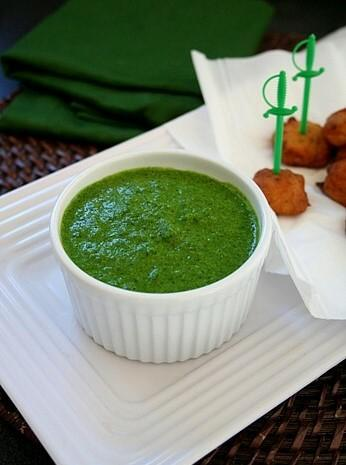GreenChutney: (60, 168, 255, 292)
